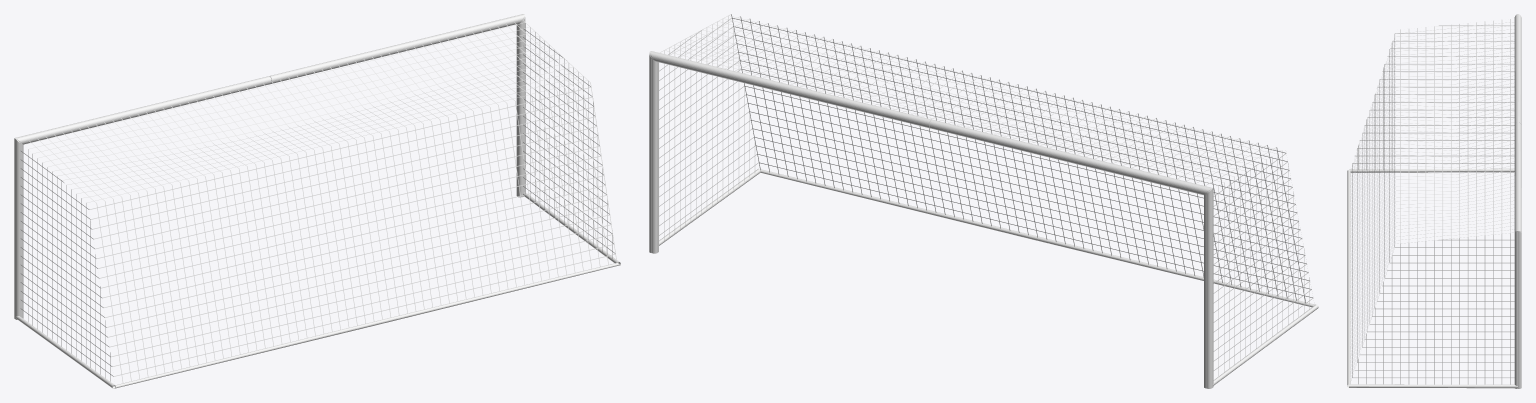
Rendered from football-goal.glb.
The picture shows the model from 3 angles, left to right: view 1: azimuth 30°, elevation 25°; view 2: azimuth 150°, elevation 25°; view 3: azimuth 270°, elevation 25°; orthographic projection. The views are drawn at different scales.
Visible parts, largest first — view 1: goal_net, goal_frame; view 2: goal_net, goal_frame; view 3: goal_net, goal_frame.
Boxes of the visible parts, x1,y1,x2,y2 form: goal_net: (20, 20, 616, 386); goal_frame: (14, 14, 620, 388); goal_net: (659, 14, 1313, 375); goal_frame: (649, 51, 1318, 388); goal_net: (1352, 19, 1514, 384); goal_frame: (1347, 14, 1521, 388).
Bounding box in the file's own units: 6.09 × 2.06 × 2.07.
Materials: 2 (1 with a texture image).
